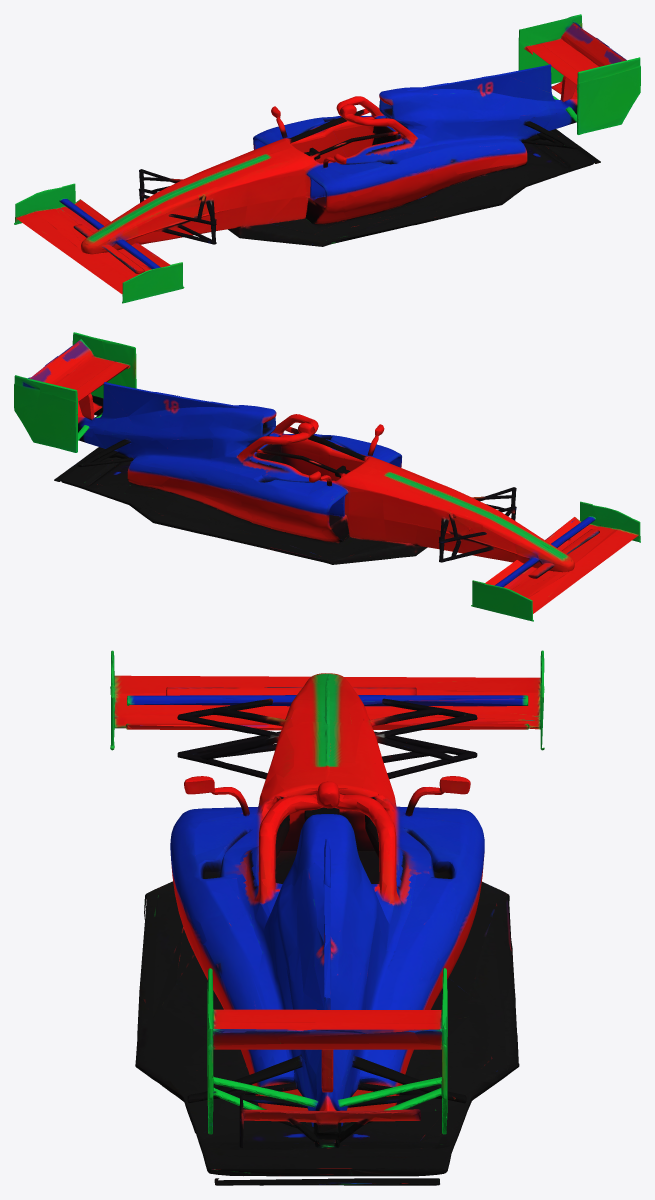
The picture shows the model from 3 angles, top to bottom: view 1: azimuth 30°, elevation 25°; view 2: azimuth 150°, elevation 25°; view 3: azimuth 270°, elevation 25°; orthographic projection. The views are drawn at different scales.
Size of the model in its own units: 1.9 by 0.3248 by 0.6564.
1 material, 1 textured.
